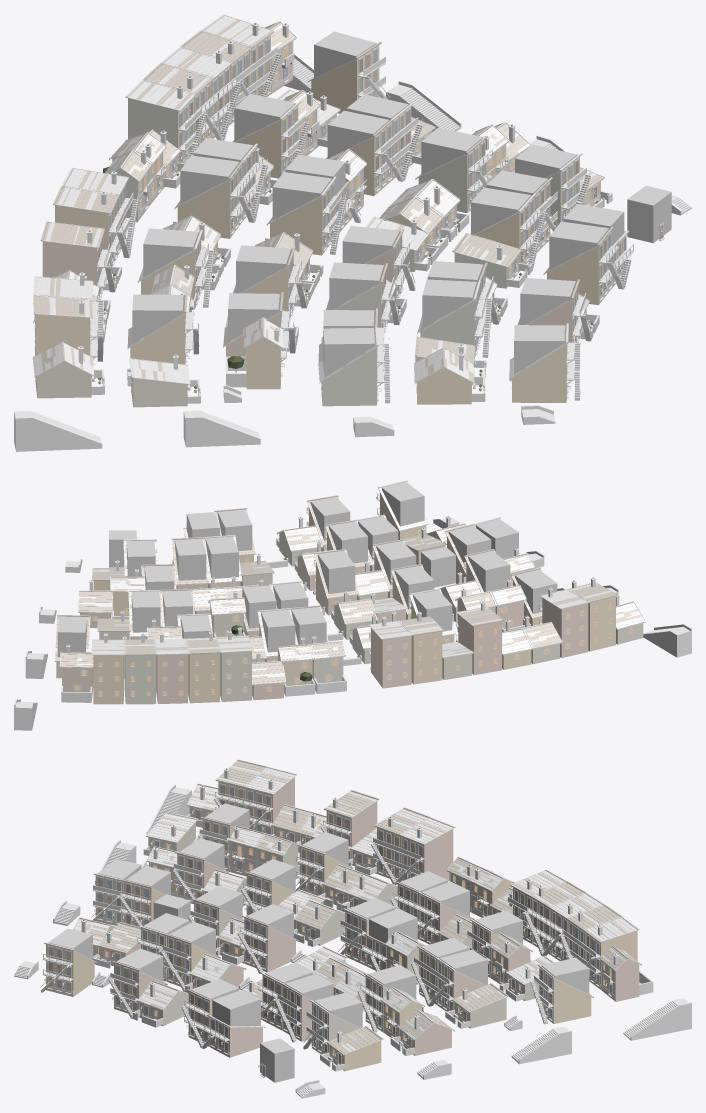
Rendered from bld_moradas_NO.glb.
3 renders of one model, top to bottom at view 1: azimuth 30°, elevation 25°; view 2: azimuth 150°, elevation 25°; view 3: azimuth 270°, elevation 25°, orthographic. The views are drawn at different scales.
Visible parts, largest first — view 1: Morada_NO_006_Body, Morada_NO_028_Body, STAIRS_Terrace_Lateral_Morada_NW_16, Morada_NO_034_Body, Morada_NO_047_Body, Morada_NO_060_Body, Morada_NO_041_Body, Morada_NO_040_Body, Morada_NO_067_Body, Morada_NO_071_Body, Morada_NO_003_Body, Morada_NO_001_InteriorVolume (+81 smaller); view 2: Morada_NO_064_Body, Morada_NO_070_Body, Morada_NO_067_Body, Morada_NO_057_Body, Morada_NO_059_Body, Morada_NO_065_Body, Morada_NO_060_Body, Morada_NO_058_Body, Morada_NO_056_Body, Morada_NO_071_Body, Morada_NO_006_InteriorVolume, Morada_NO_023_InteriorVolume (+82 smaller); view 3: Morada_NO_041_Body, Morada_NO_023_Body, Morada_NO_064_Body, Morada_NO_006_Body, STAIRS_Terrace_Lateral_Morada_NW_12, Morada_NO_055_Body, Morada_NO_002_InteriorVolume, STAIRS_Terrace_Lateral_Morada_NW_11, Morada_NO_002_Body, Morada_NO_001_InteriorVolume, Morada_NO_017_Body, Morada_NO_070_Body (+99 smaller).
Boxes of the visible parts, left/top/right/bottom form: Morada_NO_006_Body: left=511, top=336, right=580, bottom=402; Morada_NO_028_Body: left=321, top=339, right=390, bottom=406; STAIRS_Terrace_Lateral_Morada_NW_16: left=14, top=410, right=102, bottom=451; Morada_NO_034_Body: left=270, top=183, right=346, bottom=255; Morada_NO_047_Body: left=177, top=167, right=254, bottom=238; Morada_NO_060_Body: left=128, top=98, right=205, bottom=172; Morada_NO_041_Body: left=311, top=45, right=390, bottom=113; Morada_NO_040_Body: left=225, top=337, right=286, bottom=389; Morada_NO_067_Body: left=42, top=241, right=115, bottom=299; Morada_NO_071_Body: left=34, top=313, right=103, bottom=361; Morada_NO_003_Body: left=547, top=231, right=624, bottom=305; Morada_NO_001_InteriorVolume: left=627, top=185, right=671, bottom=243; Morada_NO_064_Body: left=369, top=628, right=411, bottom=688; Morada_NO_070_Body: left=538, top=598, right=588, bottom=657; Morada_NO_067_Body: left=456, top=615, right=501, bottom=675; Morada_NO_057_Body: left=124, top=655, right=155, bottom=704; Morada_NO_059_Body: left=188, top=653, right=219, bottom=703; Morada_NO_065_Body: left=411, top=631, right=442, bottom=684; Morada_NO_060_Body: left=220, top=651, right=251, bottom=701; Morada_NO_058_Body: left=156, top=654, right=187, bottom=703; Morada_NO_056_Body: left=93, top=655, right=124, bottom=704; Morada_NO_071_Body: left=588, top=596, right=615, bottom=651; Morada_NO_006_InteriorVolume: left=382, top=482, right=424, bottom=526; Morada_NO_023_InteriorVolume: left=317, top=550, right=355, bottom=594; Morada_NO_041_Body: left=530, top=967, right=591, bottom=1024; Morada_NO_023_Body: left=238, top=918, right=295, bottom=973; Morada_NO_064_Body: left=394, top=829, right=453, bottom=884; Morada_NO_006_Body: left=41, top=944, right=94, bottom=996; STAIRS_Terrace_Lateral_Morada_NW_12: left=623, top=998, right=691, bottom=1040; Morada_NO_055_Body: left=601, top=959, right=653, bottom=1001; Morada_NO_002_InteriorVolume: left=212, top=990, right=260, bottom=1026; STAIRS_Terrace_Lateral_Morada_NW_11: left=511, top=1026, right=571, bottom=1064; Morada_NO_002_Body: left=202, top=1017, right=262, bottom=1057; Morada_NO_001_InteriorVolume: left=260, top=1038, right=294, bottom=1082; Morada_NO_017_Body: left=390, top=1023, right=451, bottom=1055; Morada_NO_070_Body: left=243, top=777, right=294, bottom=834.
Size of what is drawn, in the model's own units: 128 by 17.3 by 128.
23 materials, 19 textured.
